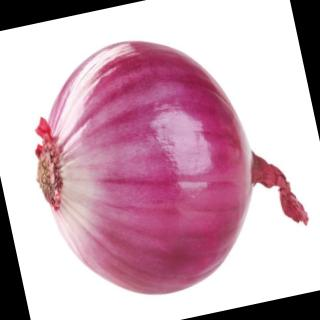Bawang Merah: (8, 7, 320, 318)
